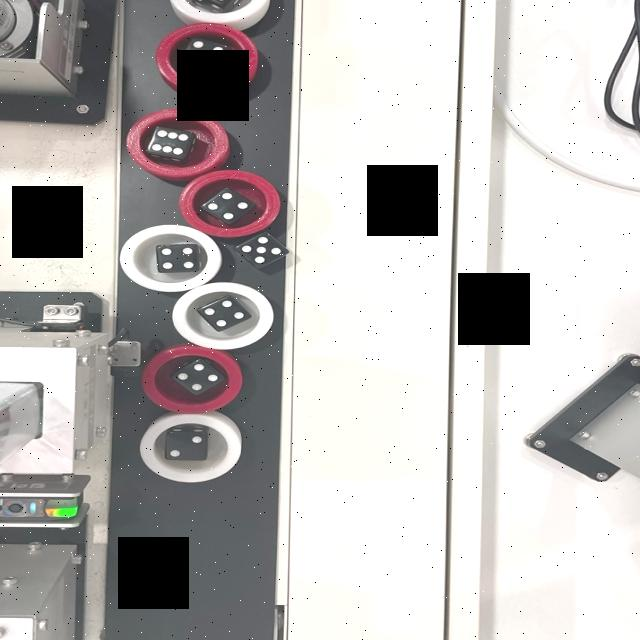DICE2: (160, 430, 204, 460)
DICE4: (202, 298, 248, 332), (204, 192, 254, 220), (176, 363, 220, 392), (181, 41, 224, 69), (158, 247, 194, 270)
DICE5: (239, 233, 281, 266), (195, 0, 241, 3)
DICE6: (149, 126, 190, 154)
RedChip: (156, 24, 258, 92), (177, 169, 281, 235), (129, 110, 230, 176), (144, 349, 243, 414)
WhiteChip: (135, 412, 241, 484), (172, 282, 274, 350), (120, 225, 225, 291), (166, 0, 272, 22)
